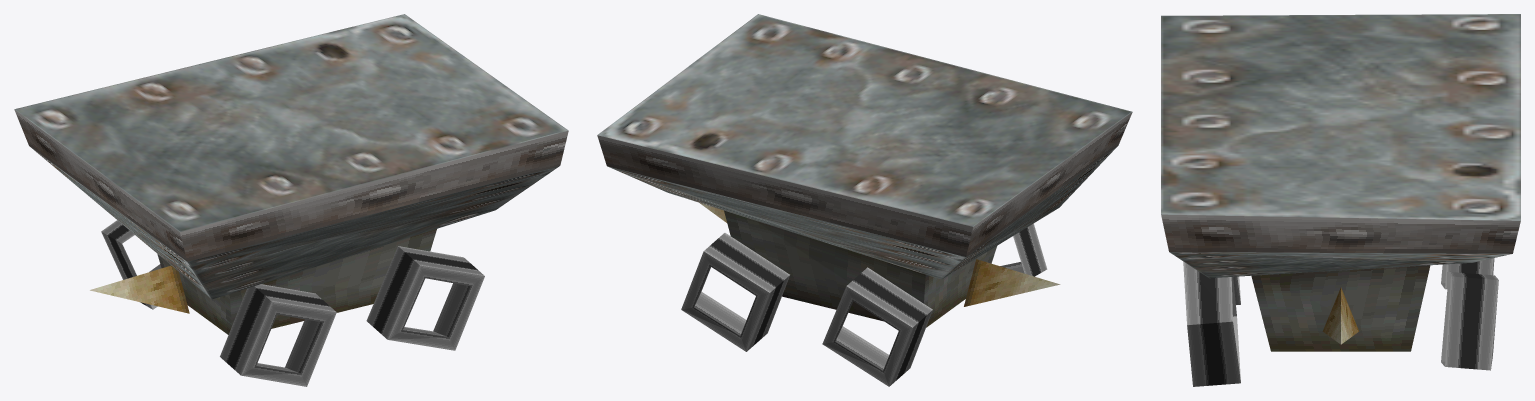
The model's file is minecartsteel-lod2.glb.
The picture shows the model from 3 angles, left to right: view 1: azimuth 30°, elevation 25°; view 2: azimuth 150°, elevation 25°; view 3: azimuth 270°, elevation 25°; orthographic projection. The views are drawn at different scales.
Visible parts, largest first — view 1: minecartsteel-lod2; view 2: minecartsteel-lod2; view 3: minecartsteel-lod2.
Part boxes in pixels (left/top/right/bottom): minecartsteel-lod2: left=14, top=14, right=568, bottom=386; minecartsteel-lod2: left=597, top=14, right=1132, bottom=386; minecartsteel-lod2: left=1161, top=14, right=1520, bottom=386.
Size of the model in its own units: 4.73 by 2.3 by 3.34.
6 materials, 6 textured.
